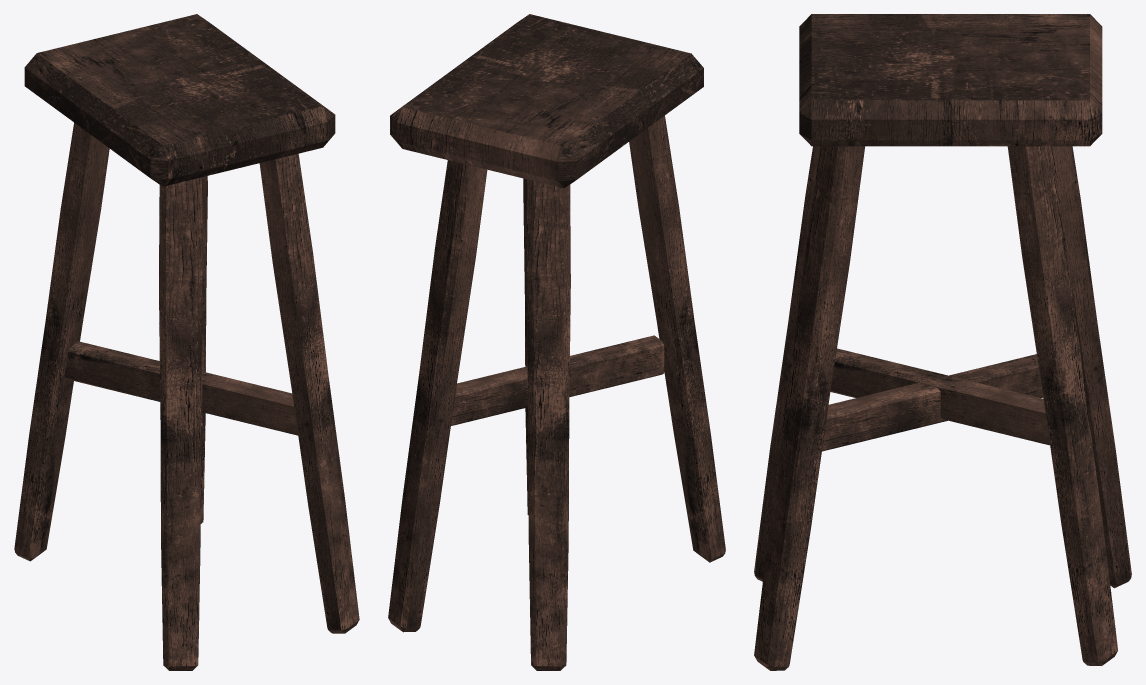
File: wooden stool square.FBX
The picture shows the model from 3 angles, left to right: view 1: azimuth 30°, elevation 25°; view 2: azimuth 150°, elevation 25°; view 3: azimuth 270°, elevation 25°; orthographic projection. The views are drawn at different scales.
Parts seen in each view (by area): view 1: Box131; view 2: Box131; view 3: Box131.
Part boxes in pixels (x1,y1,x2,y2): Box131: [14, 14, 359, 670]; Box131: [388, 14, 725, 670]; Box131: [754, 14, 1131, 670].
Bounding box in the file's own units: 13 × 32.51 × 19.69.
1 material, 1 textured.
